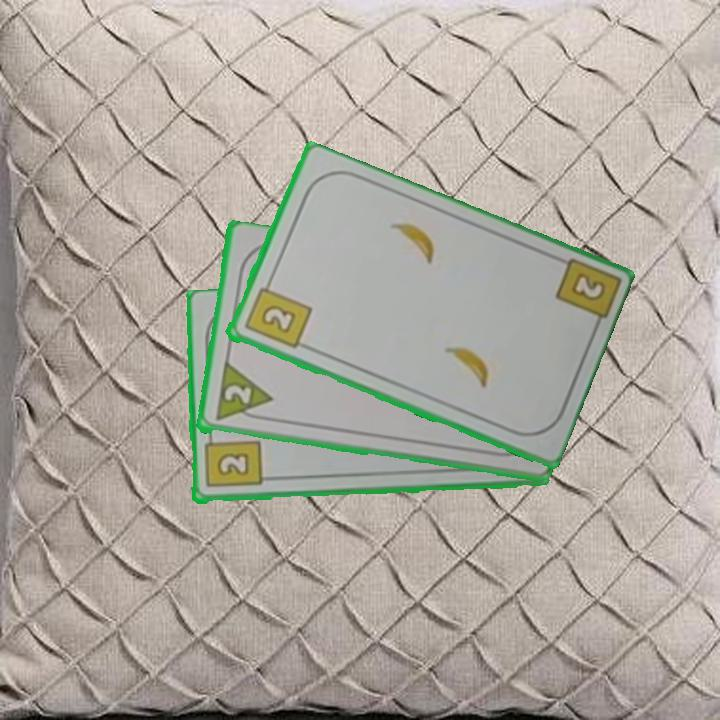2b: (240, 276, 314, 352), (200, 430, 264, 491), (567, 269, 608, 305)
2p: (211, 361, 274, 425)
